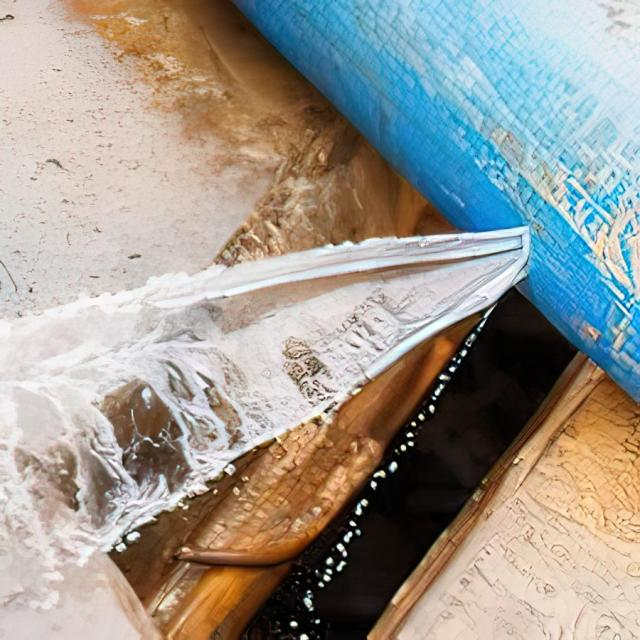leak: (0, 228, 529, 639)
